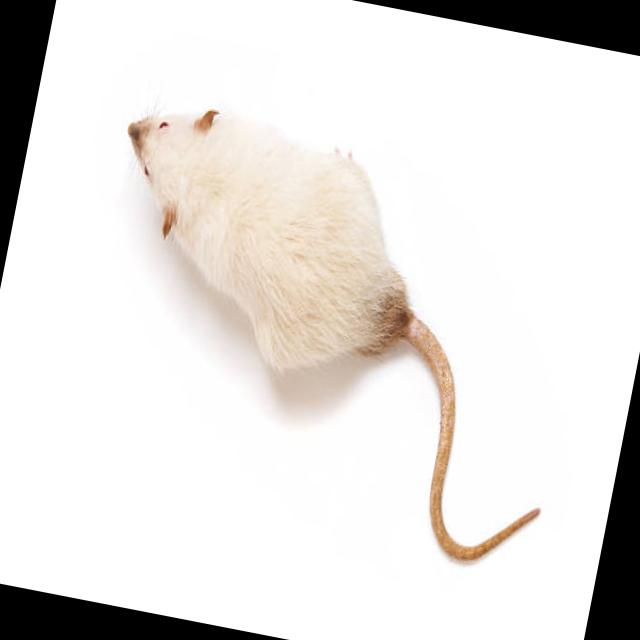rodent: (67, 56, 466, 418)
